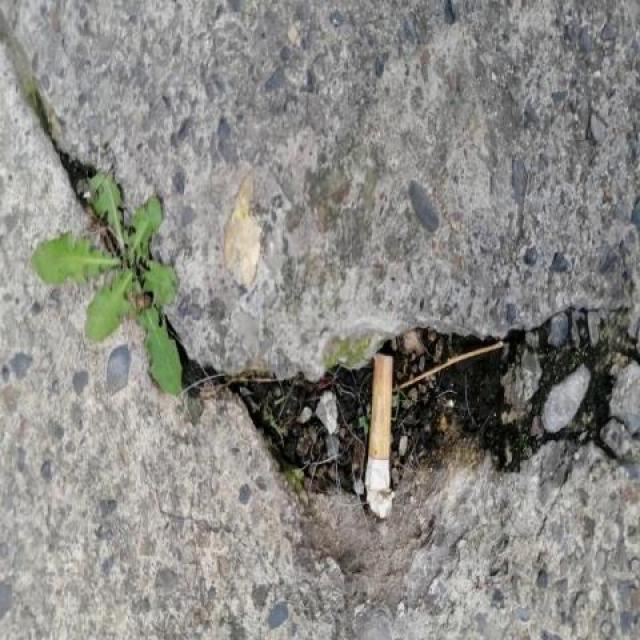non-organic waste: (357, 344, 411, 496)
